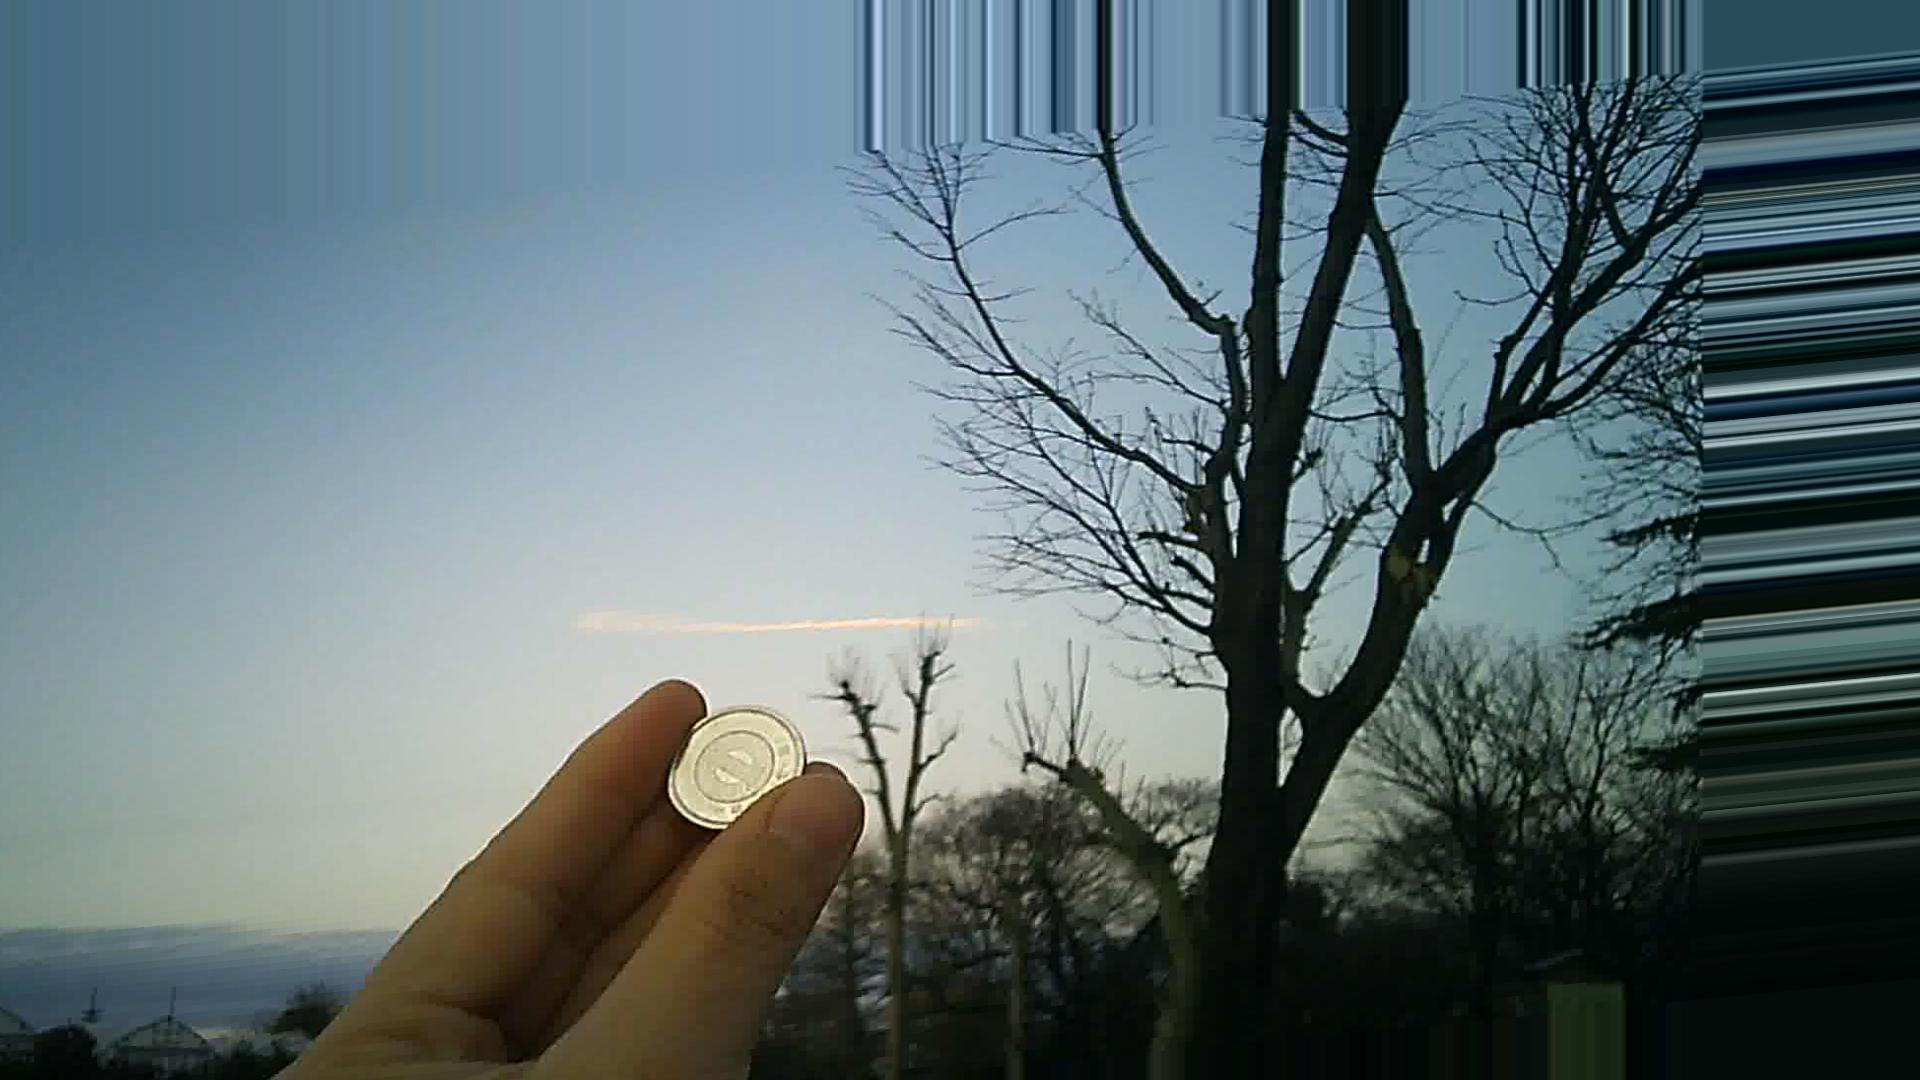1 Yen: (642, 700, 810, 833)
